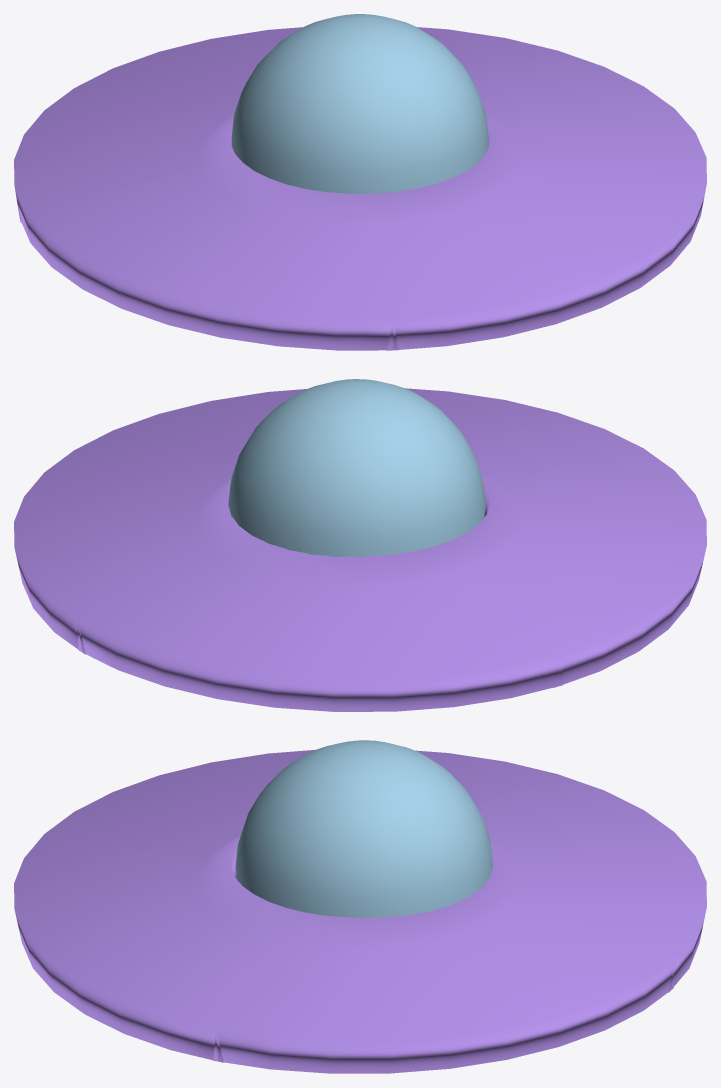
Rendered from ovni.fbx.
3 renders of one model, top to bottom at view 1: azimuth 30°, elevation 25°; view 2: azimuth 150°, elevation 25°; view 3: azimuth 270°, elevation 25°, orthographic.
Parts seen in each view (by area): view 1: Cylinder.003; view 2: Cylinder.003; view 3: Cylinder.003.
Boxes of the visible parts, left/top/right/bottom form: Cylinder.003: left=14, top=14, right=706, bottom=350; Cylinder.003: left=14, top=379, right=706, bottom=711; Cylinder.003: left=14, top=740, right=706, bottom=1073.
Size of the model in its own units: 1930 by 550 by 1930.
